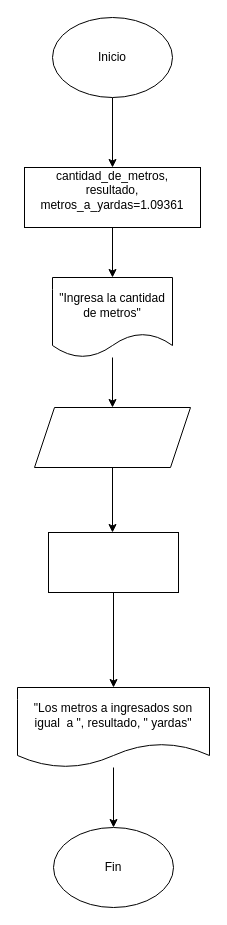
Image size: 227x925. Some labels were removed from this diagram. The centre of each missing label's shape, as x and y in pixels:
"cantidad_de_metros" belongs at pixel 112 437.
"resultado = cantidad_de_metros *metros_a_yardas" belongs at pixel 113 562.
